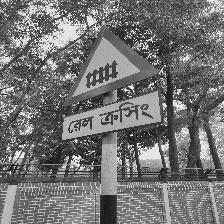Rail-crossing: (60, 25, 164, 143)
